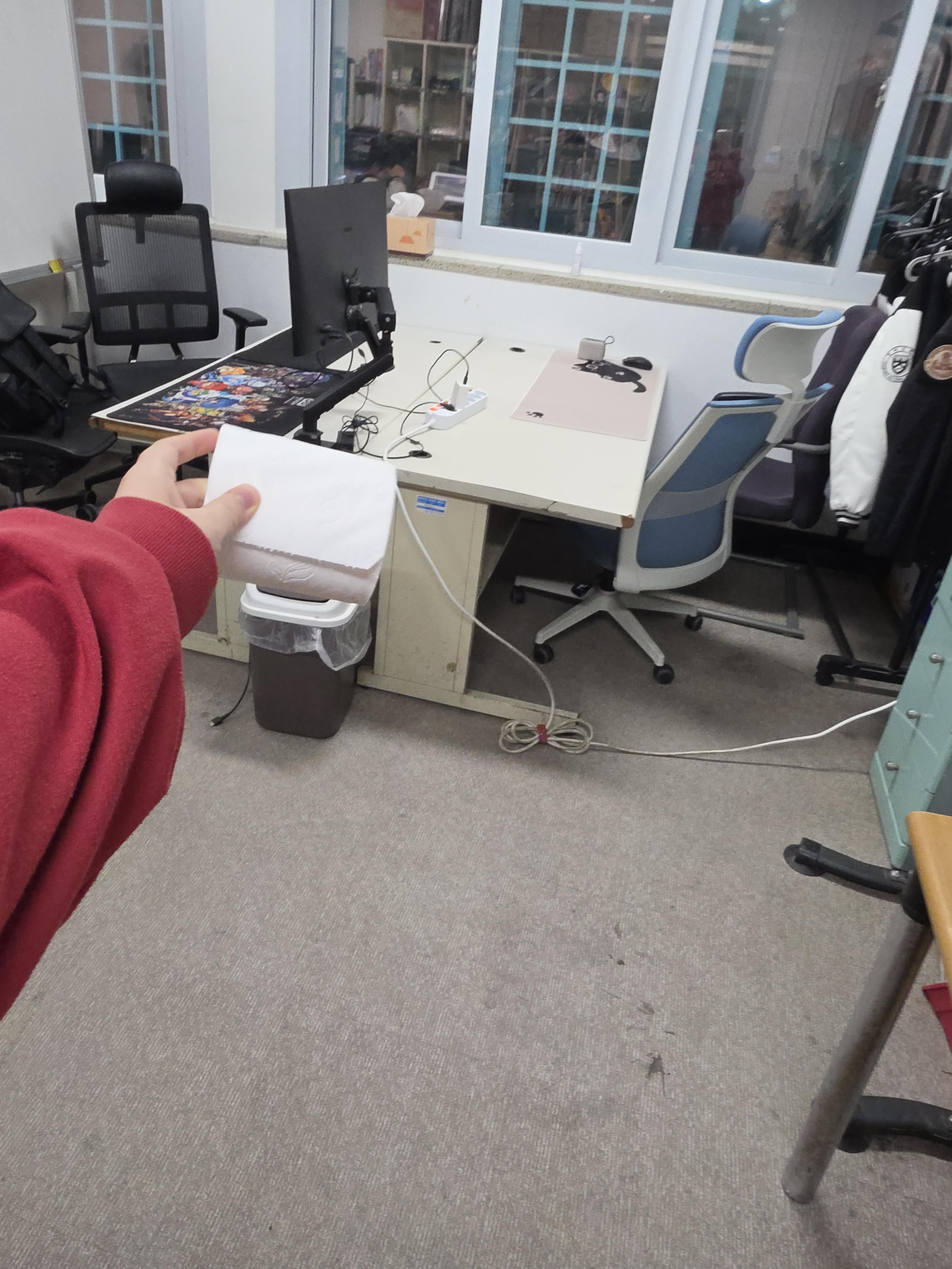tissue: (202, 424, 397, 605), (387, 192, 436, 257)
